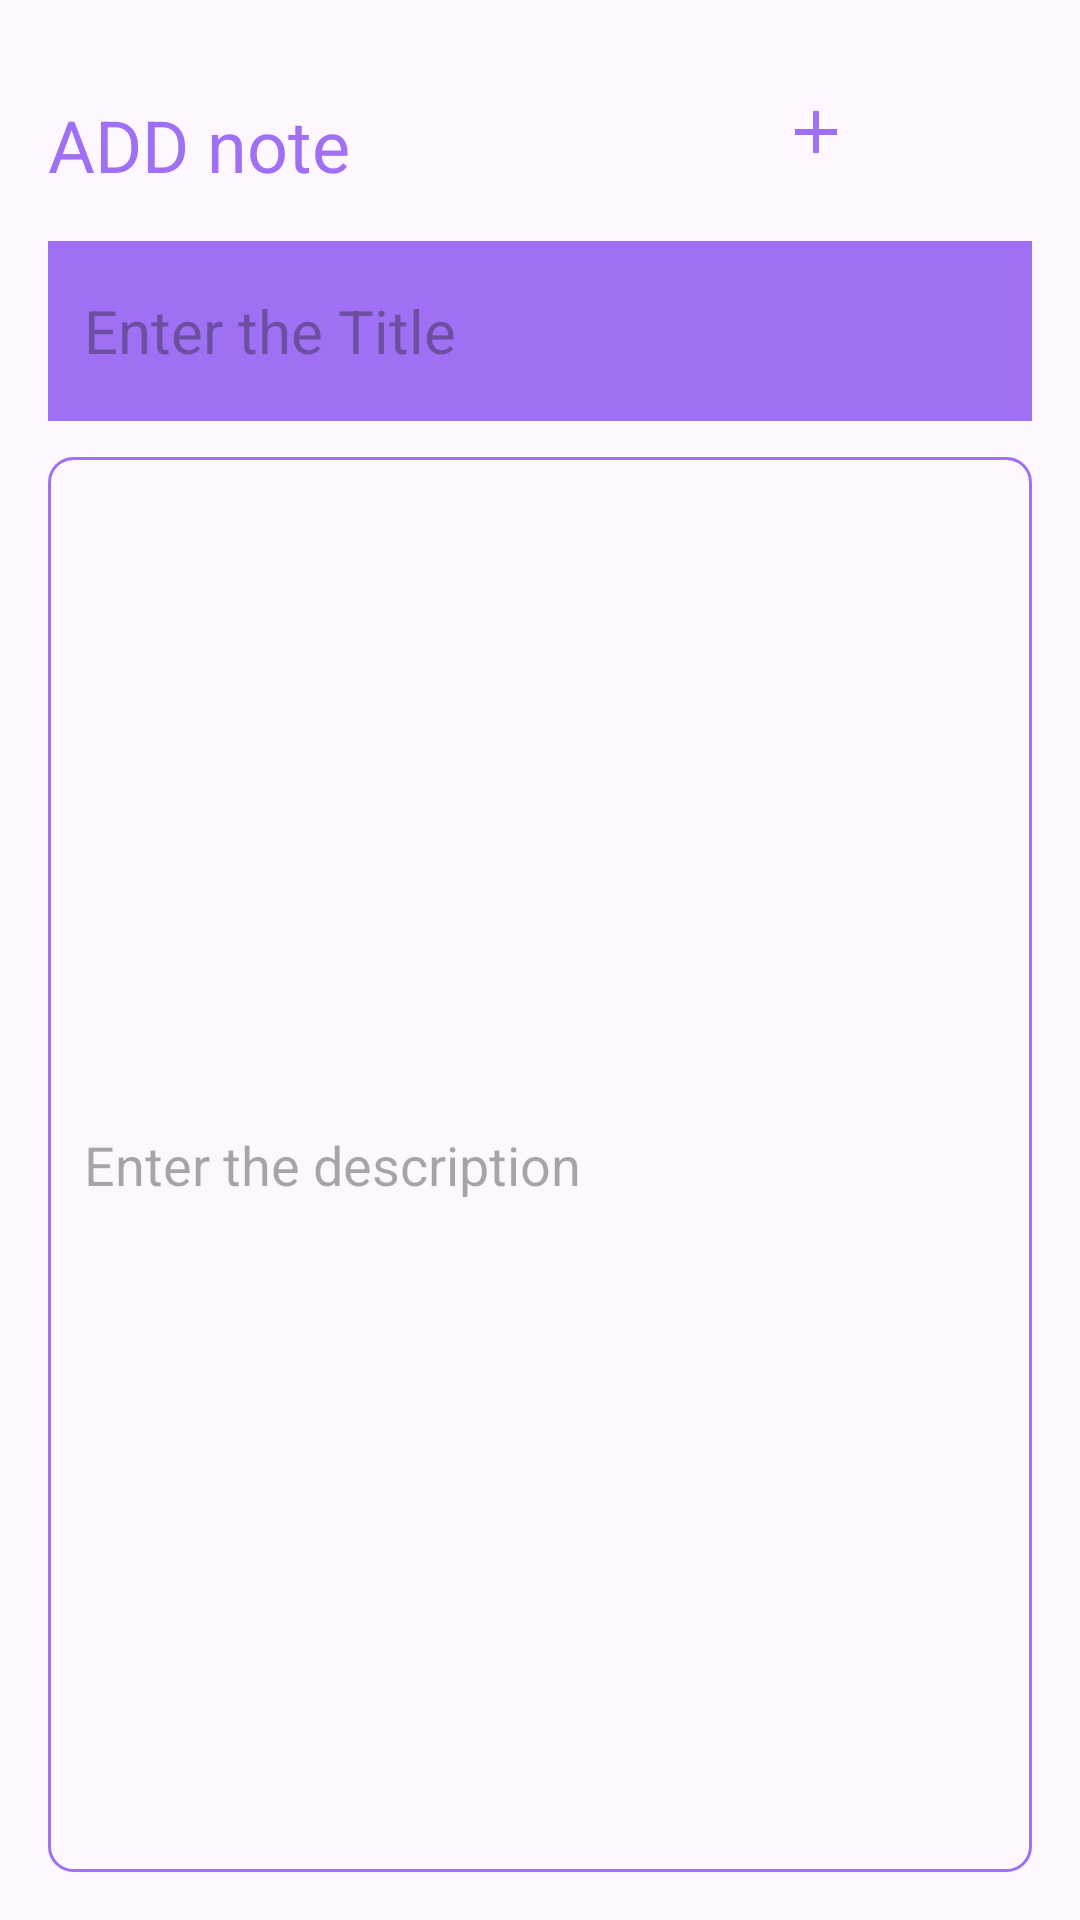

Screen size 1080*1920. Icon name, then its box in pixels as (x1, y1, x2, y2):
add: (795, 111, 837, 153)
